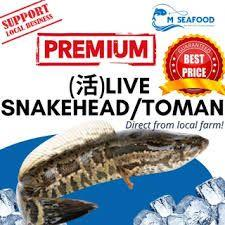Snakehead: (18, 118, 209, 225)
